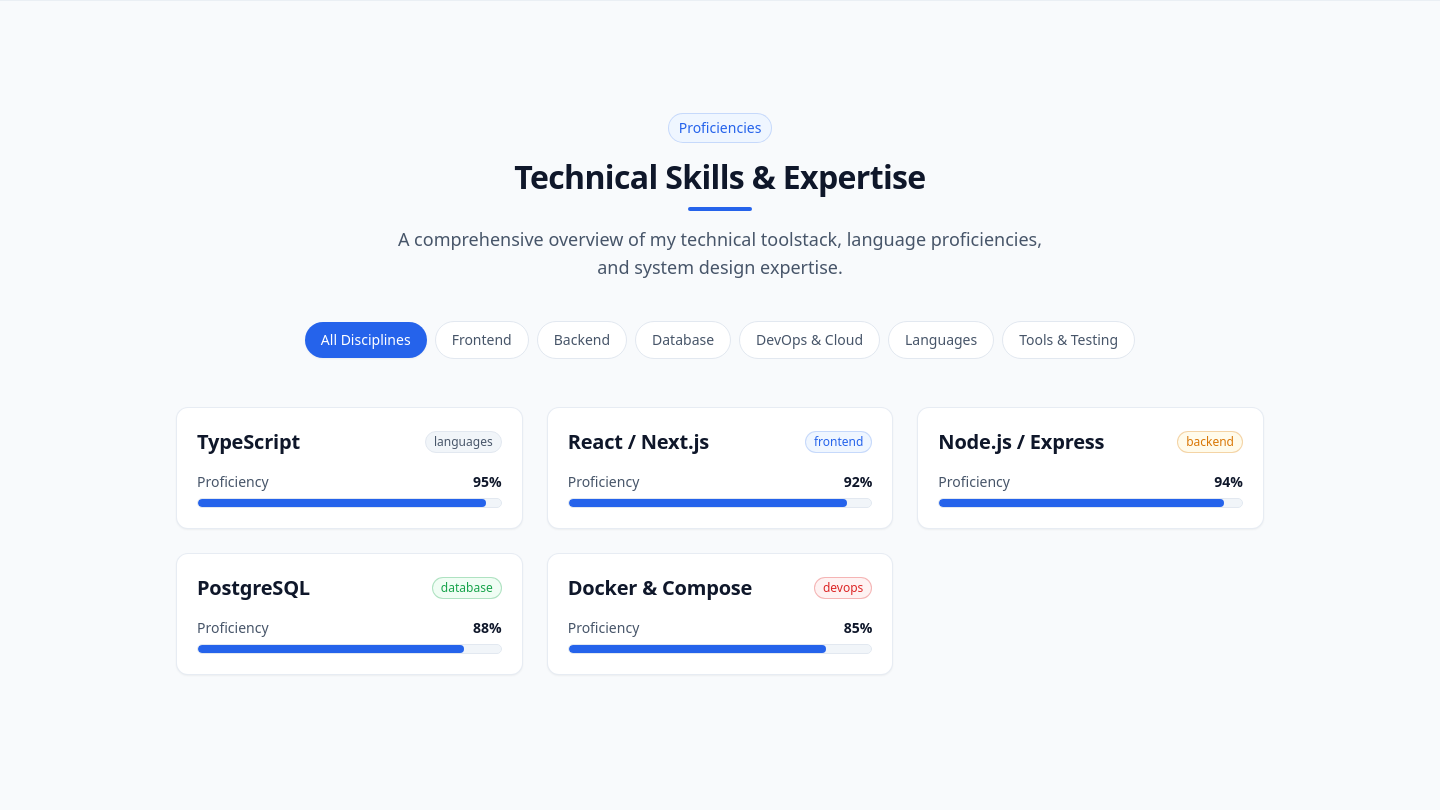
Test case: Skills Section Component › filters skills when a category pill is clicked
Click the button "Frontend". click: click(482, 340)
box: top-left (435, 321), bottom-right (529, 359)
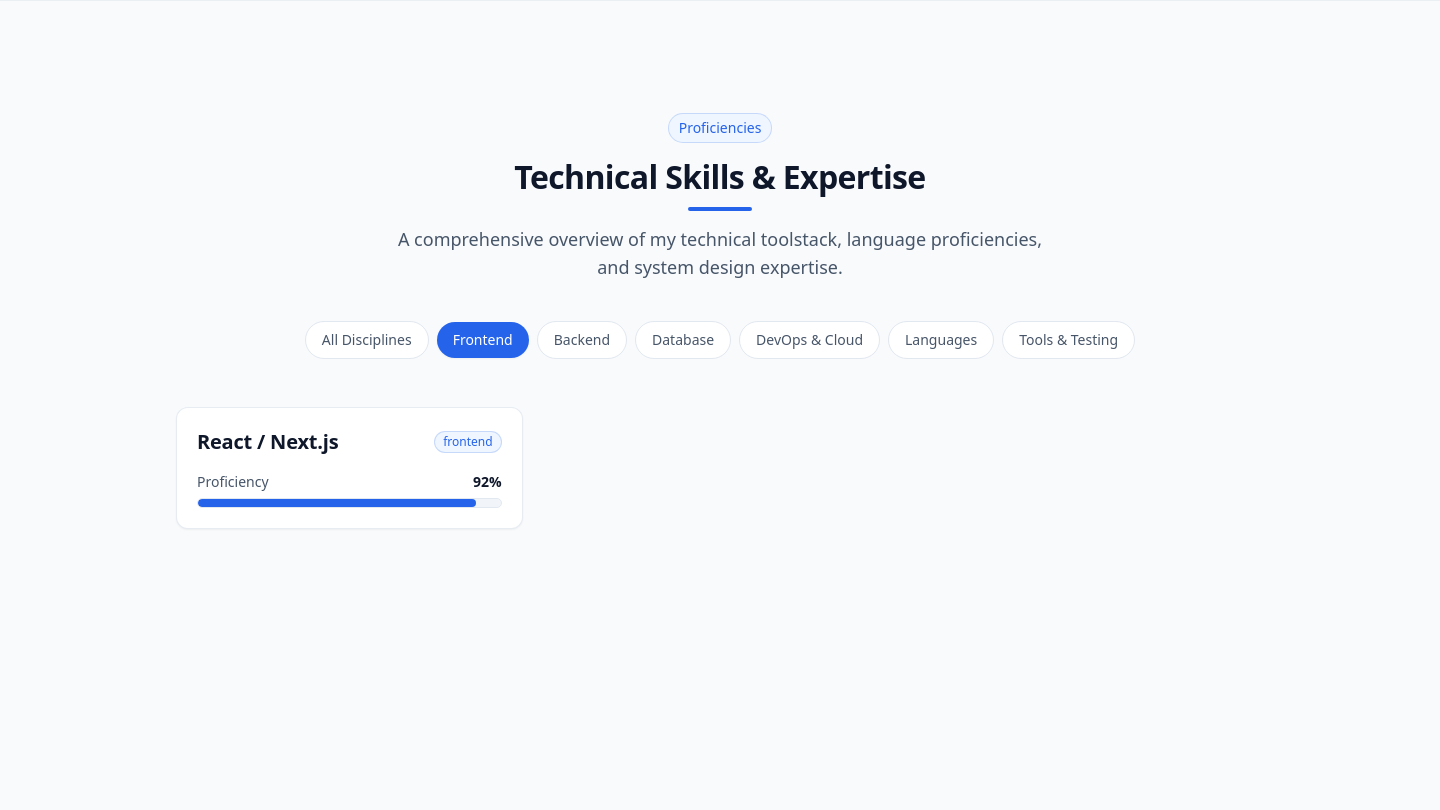
Expected: the text "React / Next.js" is shown, top-left (197, 428), bottom-right (338, 456)
Now the text "Node.js / Express" is gone
Now the text "PostgreSQL" is gone
Click the button "Backend". click: click(582, 340)
box: top-left (537, 321), bottom-right (627, 359)
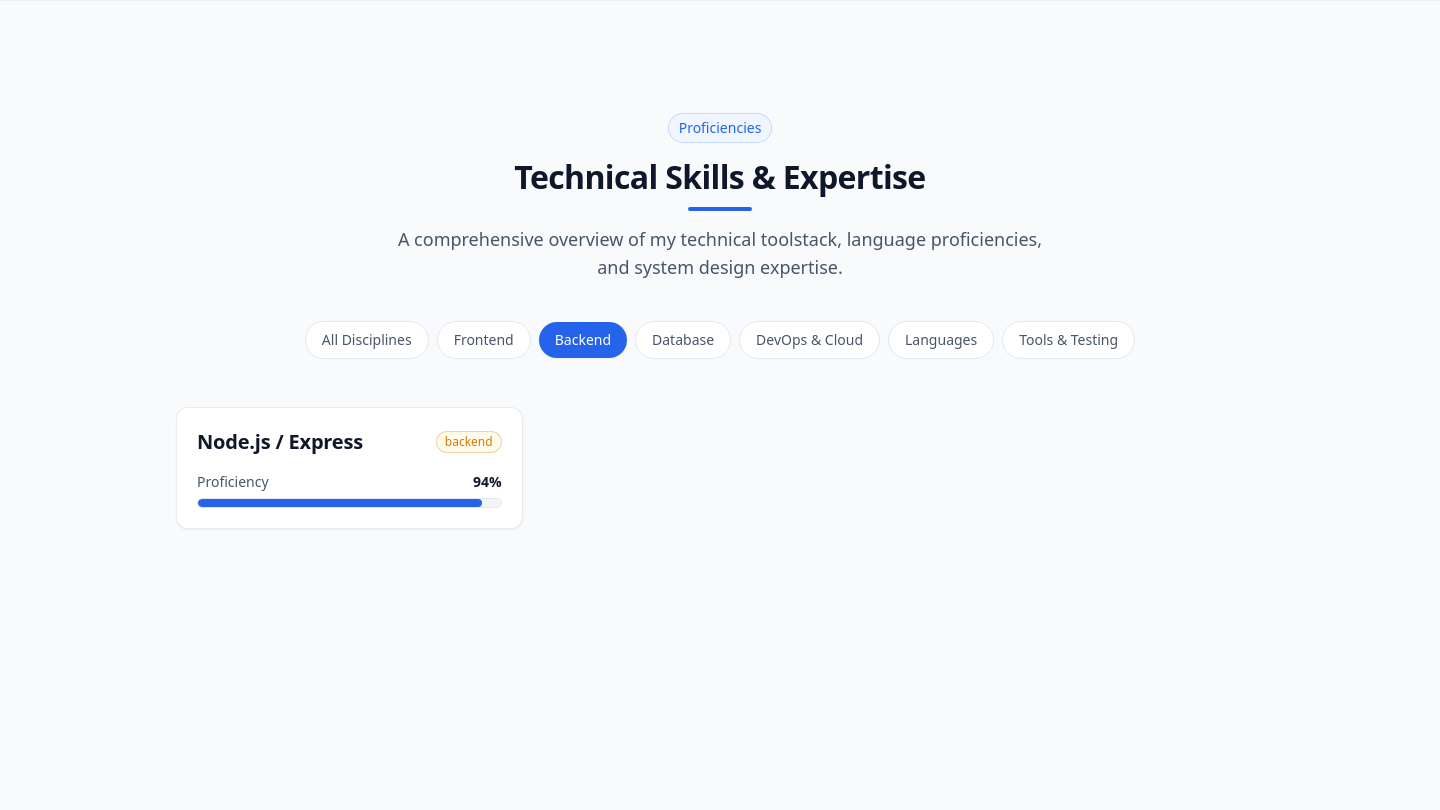
Now the text "Node.js / Express" is shown, box top-left (197, 428), bottom-right (363, 456)
Now the text "React / Next.js" is gone
Click the button "All Disciplines". click: click(367, 340)
box: top-left (305, 321), bottom-right (429, 359)
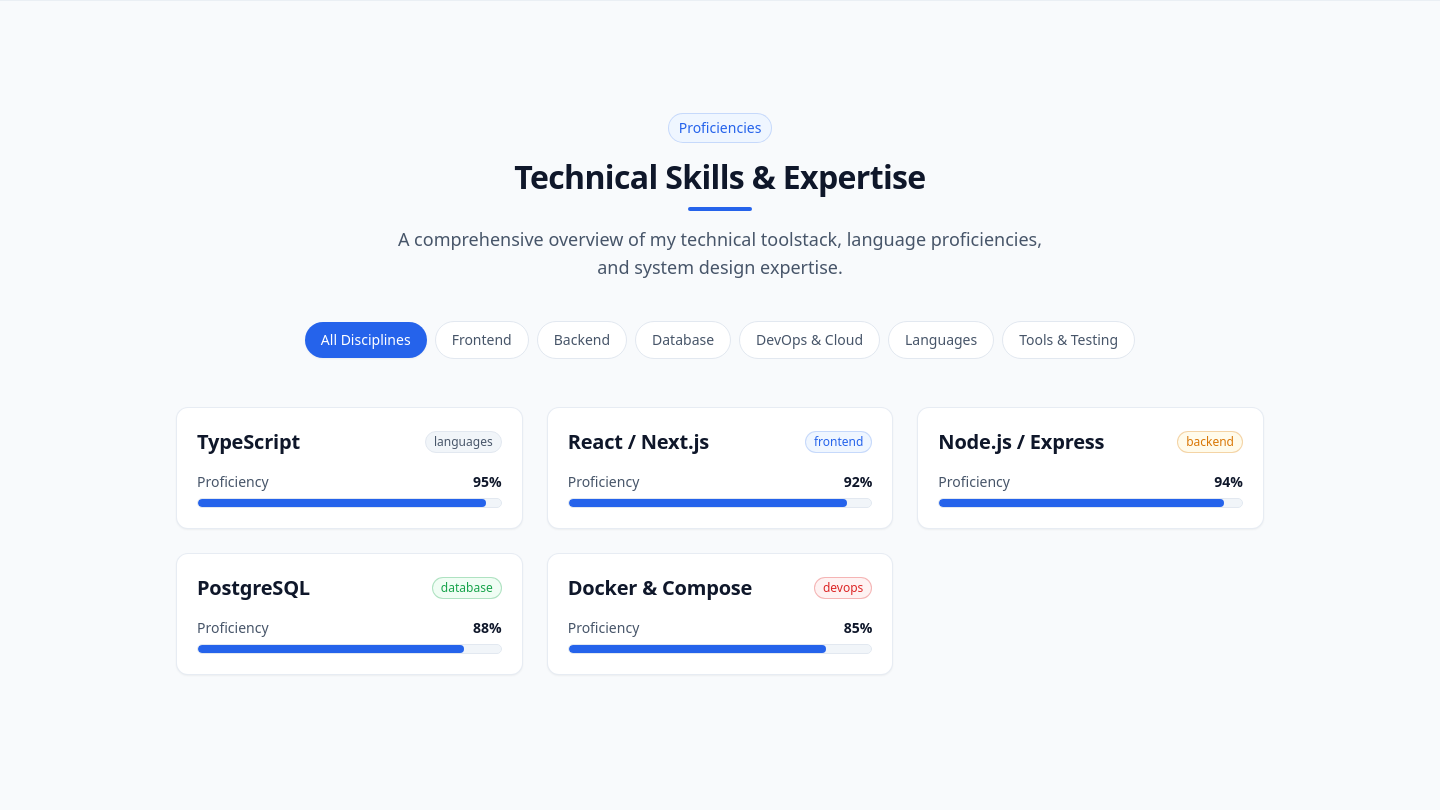
Now the text "Node.js / Express" is shown, box top-left (938, 428), bottom-right (1104, 456)
Now the text "TypeScript" is shown, box top-left (197, 428), bottom-right (300, 456)
Now the text "React / Next.js" is shown, box top-left (568, 428), bottom-right (709, 456)
